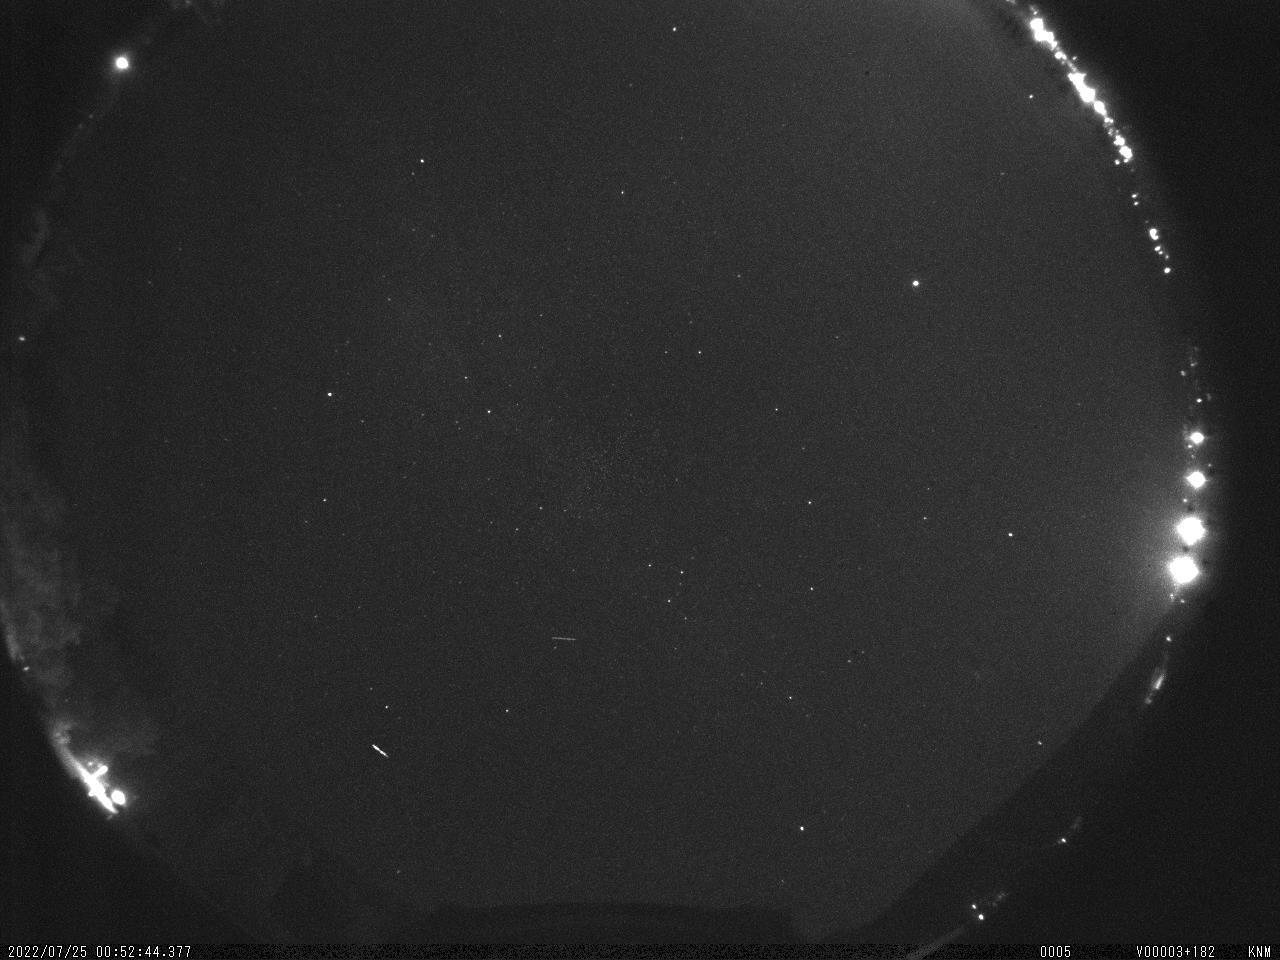Meteor: (367, 738, 392, 763), (545, 634, 580, 642)
